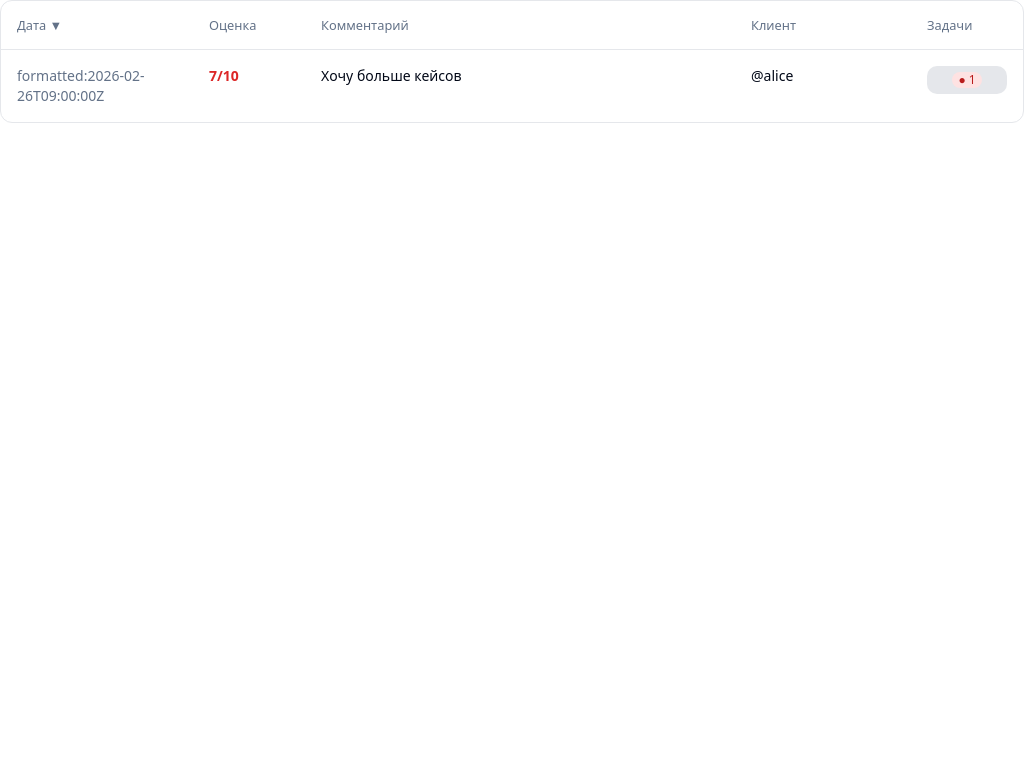
Test: ScheduleTasksView › adds history step in modal and updates task status to done
Click the button "● 1" at (967, 80), box [927,66,1007,94]
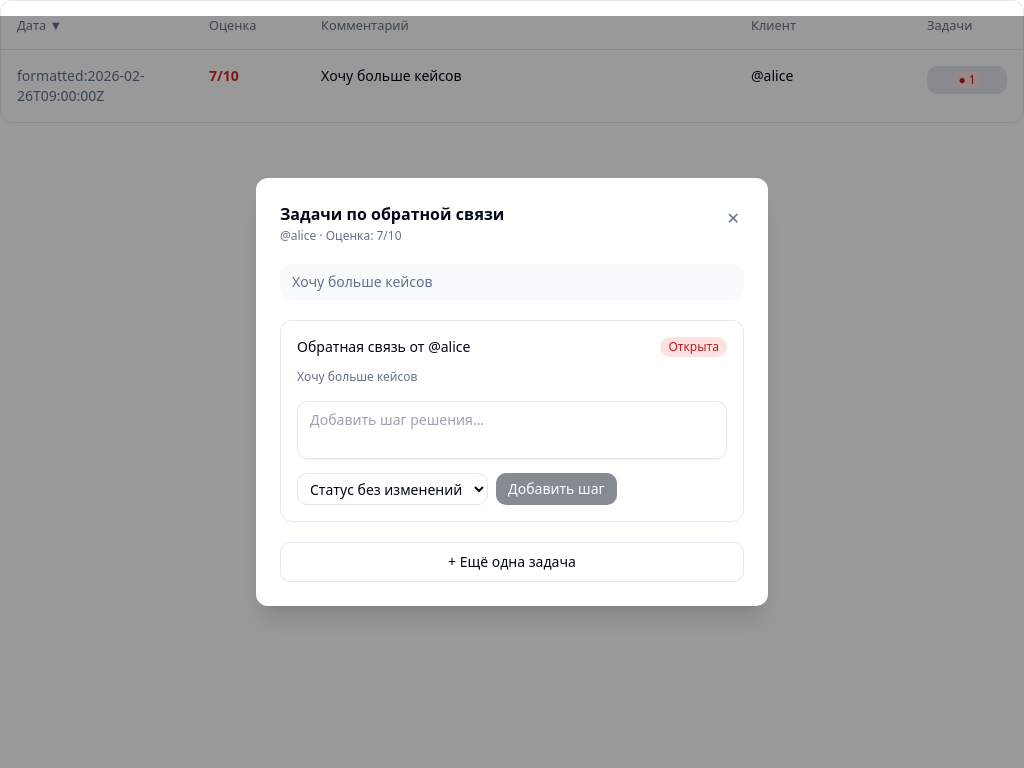
expect the text "Обратная связь от @alice" is shown: met, box [297,337,470,357]
Type "Подготовили подборку кейсов" into the text box with placeholder "Добавить шаг решения…" at (512, 430), box [297,401,727,459]
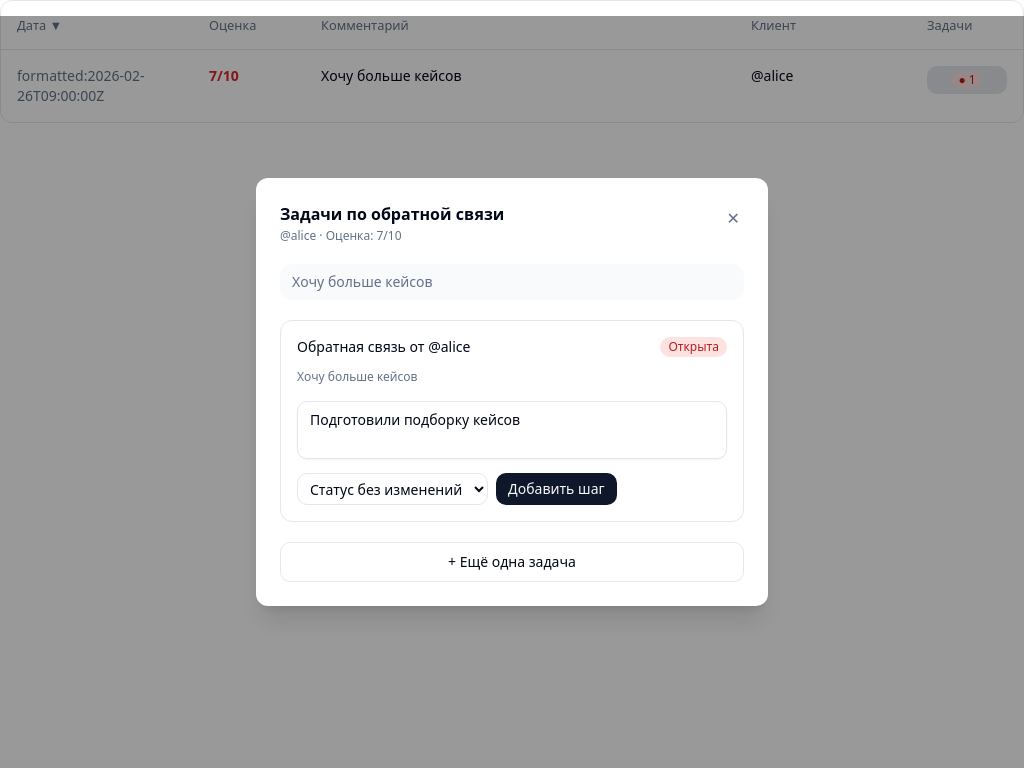
Select "Выполнена" in the dropdown showing "Статус без изменений" at (392, 489), box [297,473,488,505]
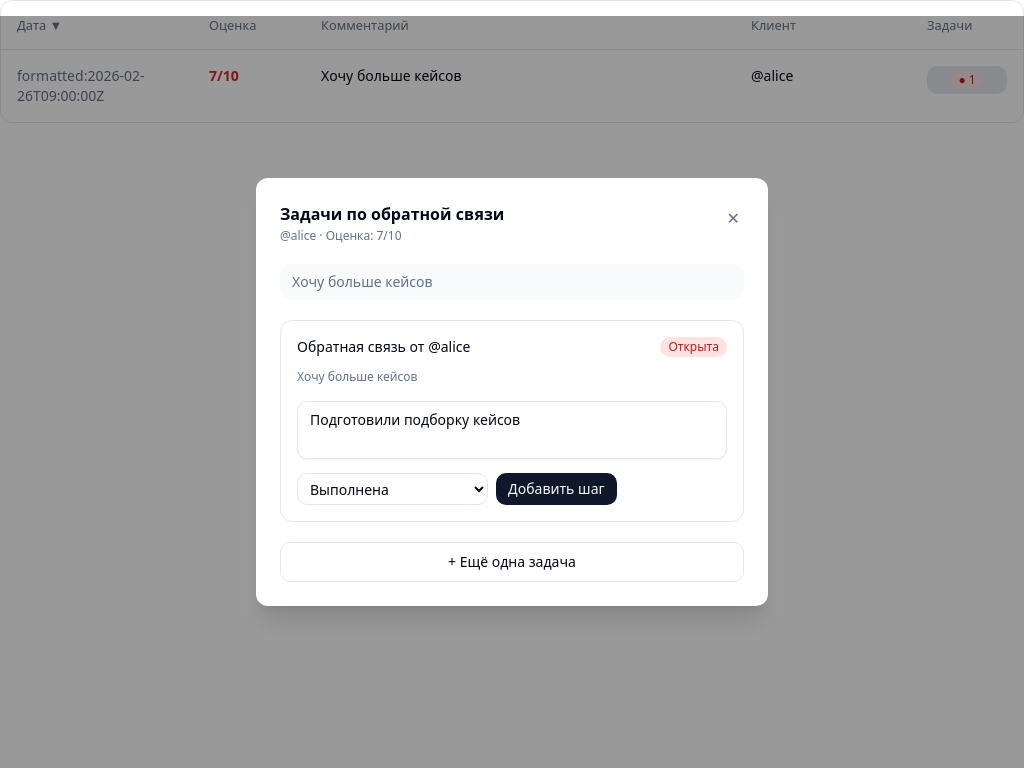
Click the button "Добавить шаг" at (556, 489), box [496,473,617,505]
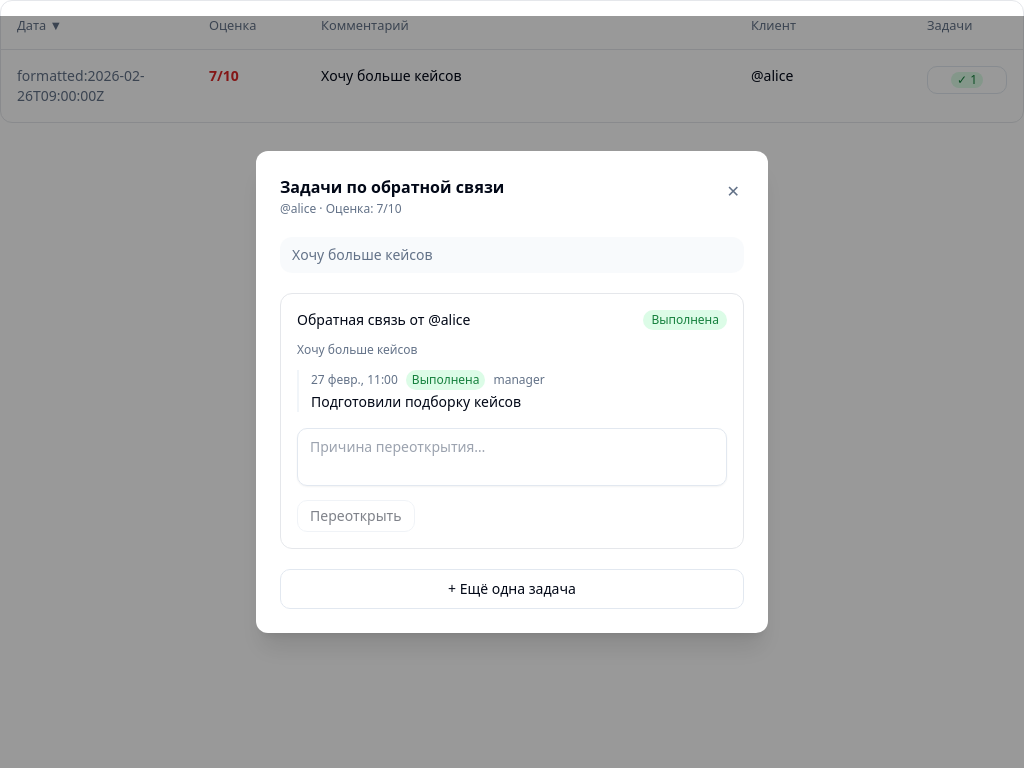
expect the text "Подготовили подборку кейсов" is shown: met, box [311,392,521,411]
expect the button "Переоткрыть" is shown: met, box [297,500,414,532]
